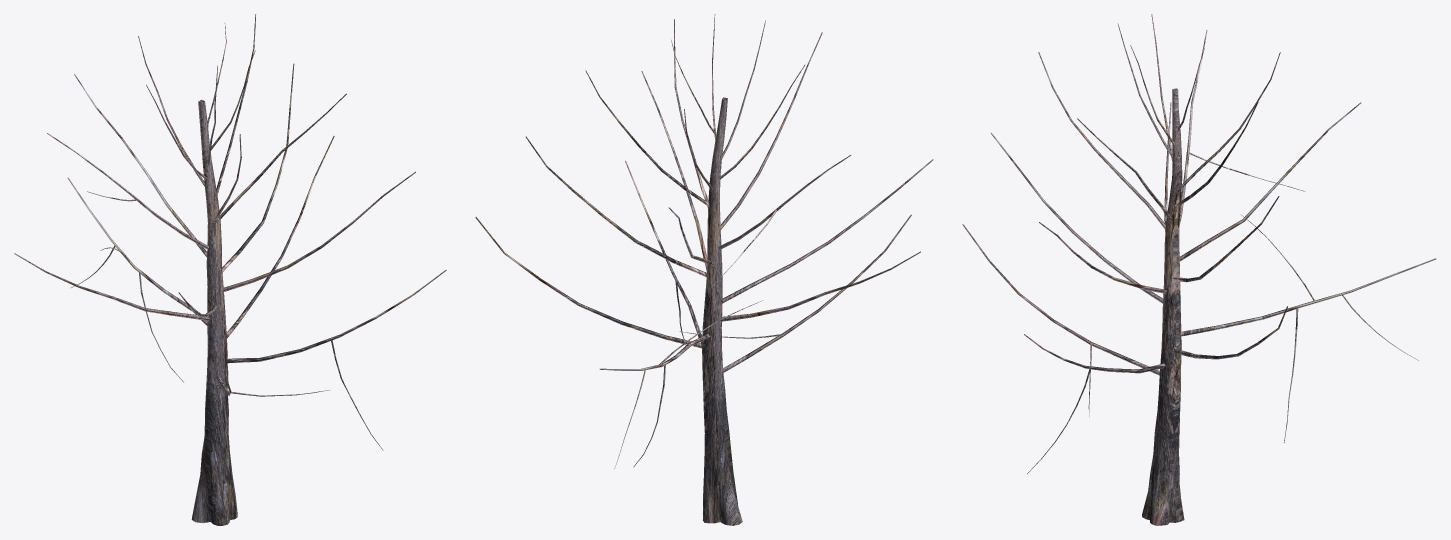
File: död dräd V2.fbx
3 renders of one model, left to right at view 1: azimuth 30°, elevation 25°; view 2: azimuth 150°, elevation 25°; view 3: azimuth 270°, elevation 25°, orthographic. The views are drawn at different scales.
Parts seen in each view (by area): view 1: Foliage001; view 2: Foliage001; view 3: Foliage001.
Part boxes in pixels (x1,y1,x2,y2): Foliage001: [14, 14, 446, 525]; Foliage001: [475, 14, 933, 525]; Foliage001: [962, 14, 1436, 525].
Size of the model in its own units: 131 by 156 by 139.
